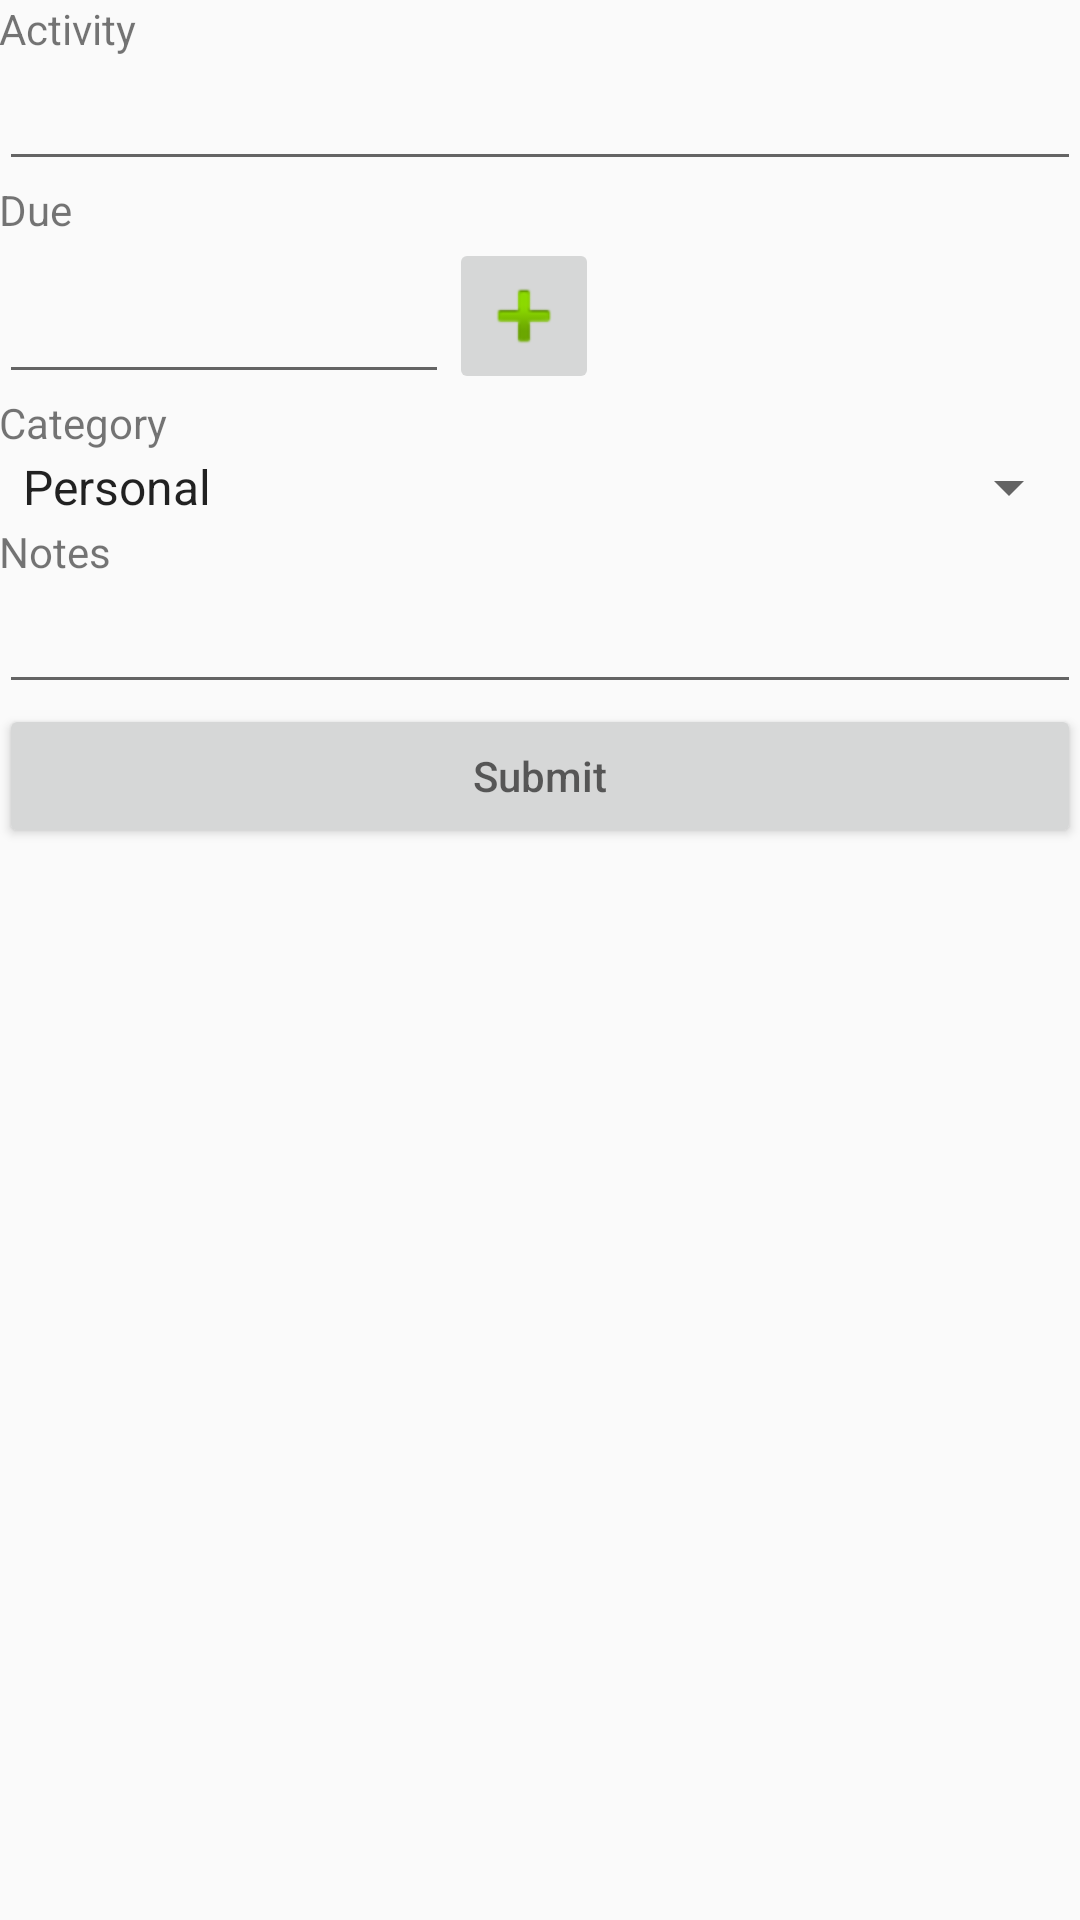

Named icons in this screenshot (1080x1920) and their bounding boxes, region(x1, y1, x2, y2):
add: region(461, 256, 587, 376)
